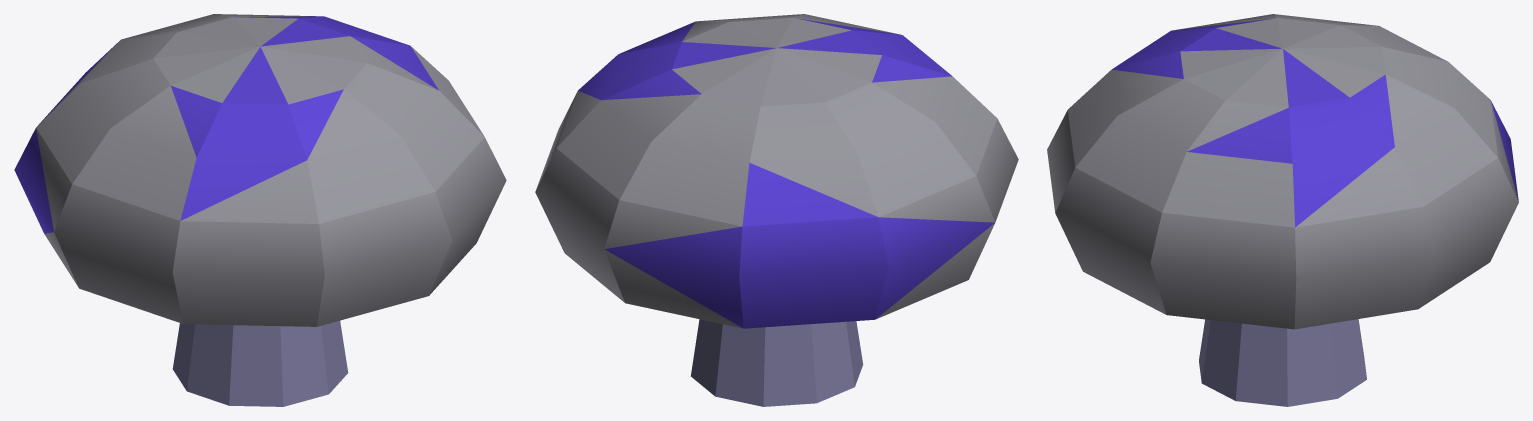
File: Odd_Mushroom.fbx
3 views of the same model, side by side, from view 1: azimuth 30°, elevation 25°; view 2: azimuth 150°, elevation 25°; view 3: azimuth 270°, elevation 25° (orthographic).
Visible parts, largest first — view 1: pCylinder2; view 2: pCylinder2; view 3: pCylinder2.
Part boxes in pixels (x1,y1,x2,y2): pCylinder2: (14, 14, 506, 406); pCylinder2: (535, 14, 1018, 406); pCylinder2: (1047, 14, 1518, 406).
Bounding box in the file's own units: 24.05 × 17.49 × 23.27.
